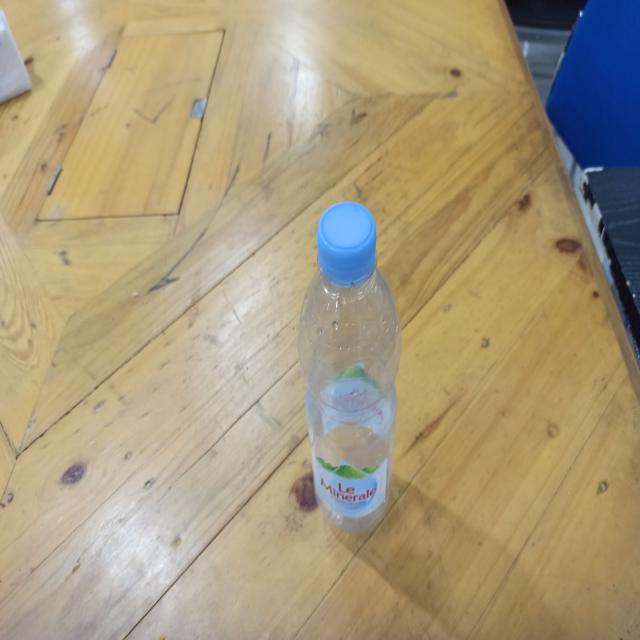BotolPlastik: (296, 200, 402, 535)
